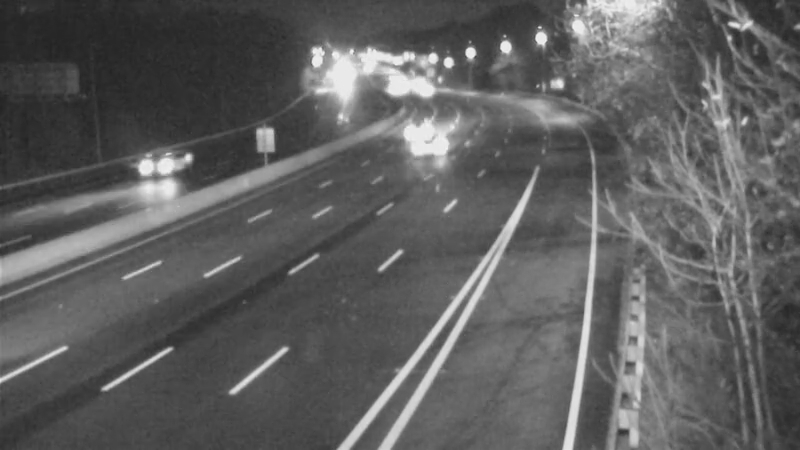vehicle: (118, 137, 198, 217), (387, 100, 437, 150), (415, 117, 465, 167)
